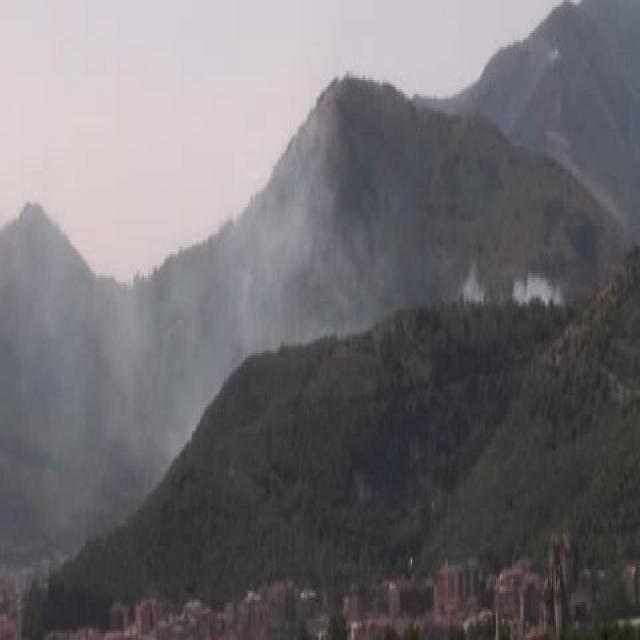smoke: (14, 303, 192, 461), (225, 168, 326, 352)
